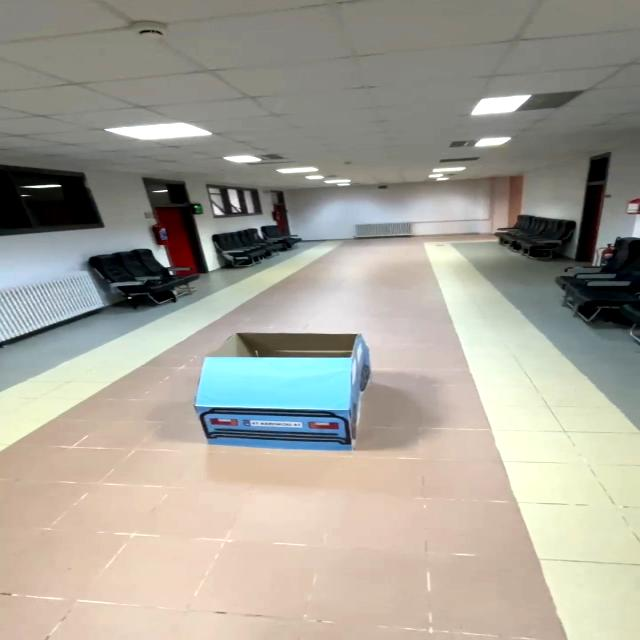blue_car: (171, 319, 408, 475)
